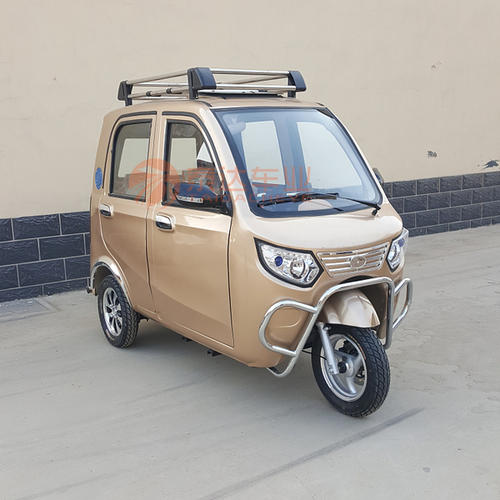tricycle: (68, 57, 408, 428)
